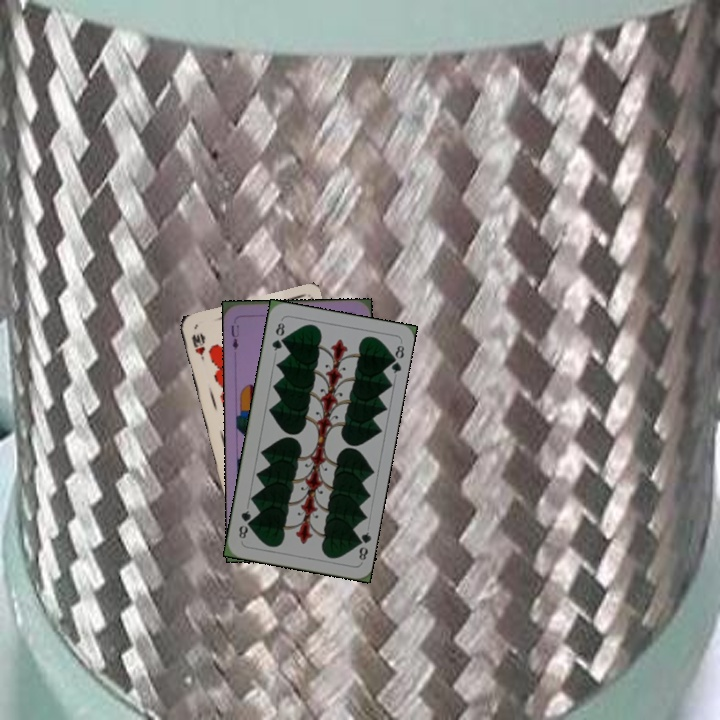EU: (227, 321, 241, 352)
G8: (351, 528, 373, 563), (268, 318, 287, 353)
H10: (187, 330, 207, 363)
